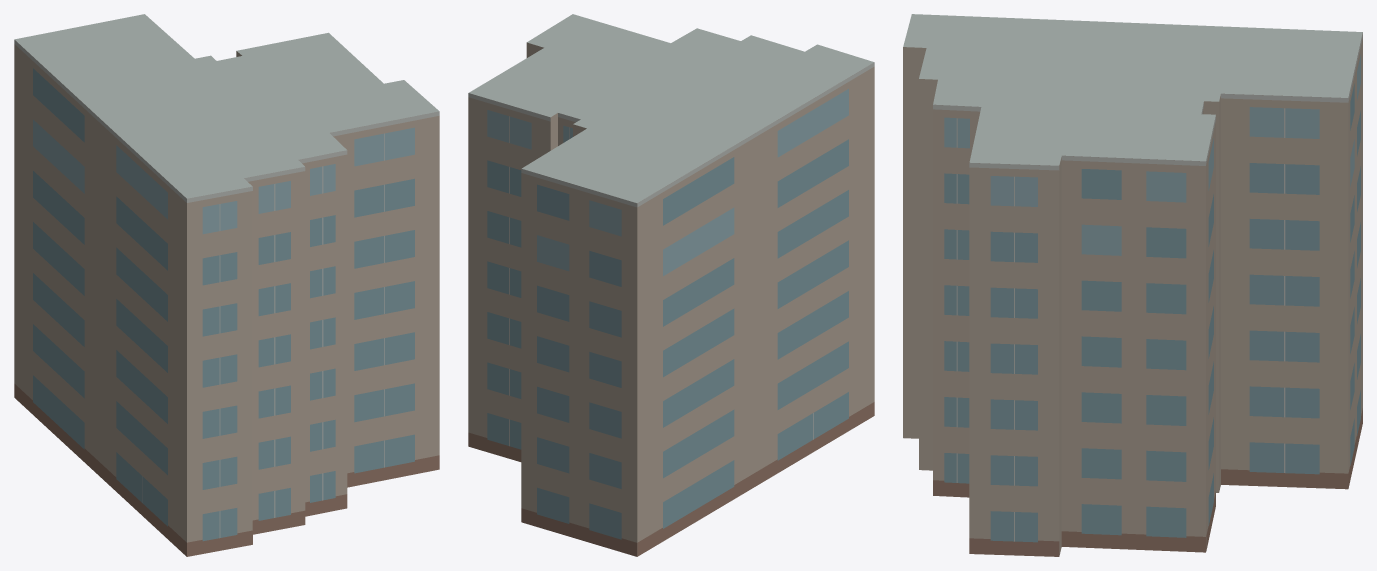
File: survey-upis-32874852.glb
3 renders of one model, left to right at view 1: azimuth 30°, elevation 25°; view 2: azimuth 150°, elevation 25°; view 3: azimuth 270°, elevation 25°, orthographic. The views are drawn at different scales.
Parts seen in each view (by area): view 1: survey-upis-32874852.tmp; view 2: survey-upis-32874852.tmp; view 3: survey-upis-32874852.tmp.
Part boxes in pixels (left/top/right/bottom): survey-upis-32874852.tmp: left=14, top=14, right=439, bottom=556; survey-upis-32874852.tmp: left=468, top=14, right=874, bottom=556; survey-upis-32874852.tmp: left=903, top=14, right=1362, bottom=556.
Bounding box in the file's own units: 16.78 × 20.15 × 21.48.
